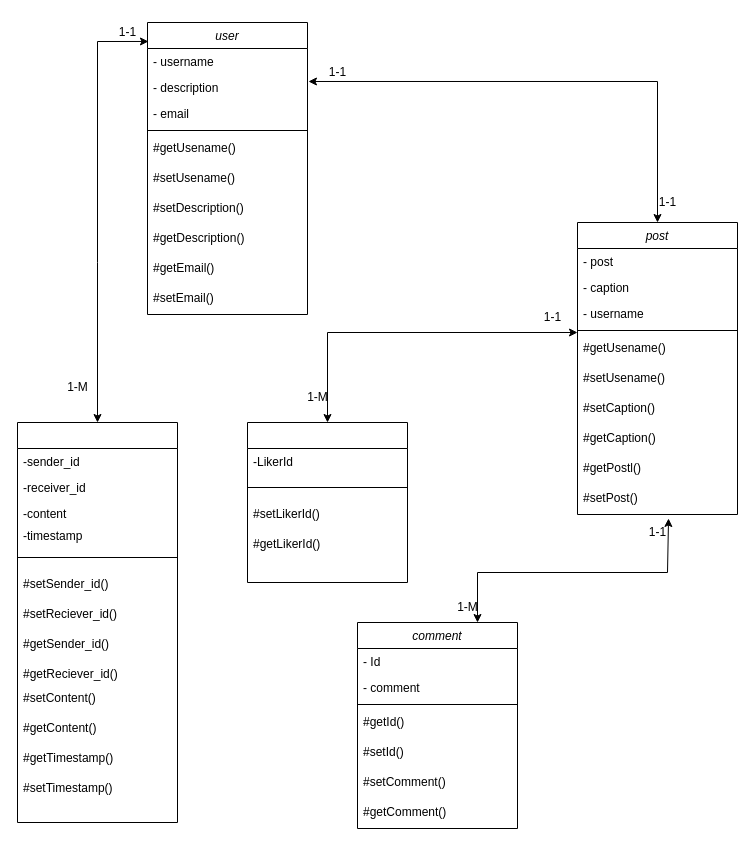
This 755x848 diagram has some shape labels left out. Here are the shapes that lost their labels. From the top down, the box of each, then its label:
(246, 422, 408, 582): likers
(16, 422, 178, 822): messageObject
